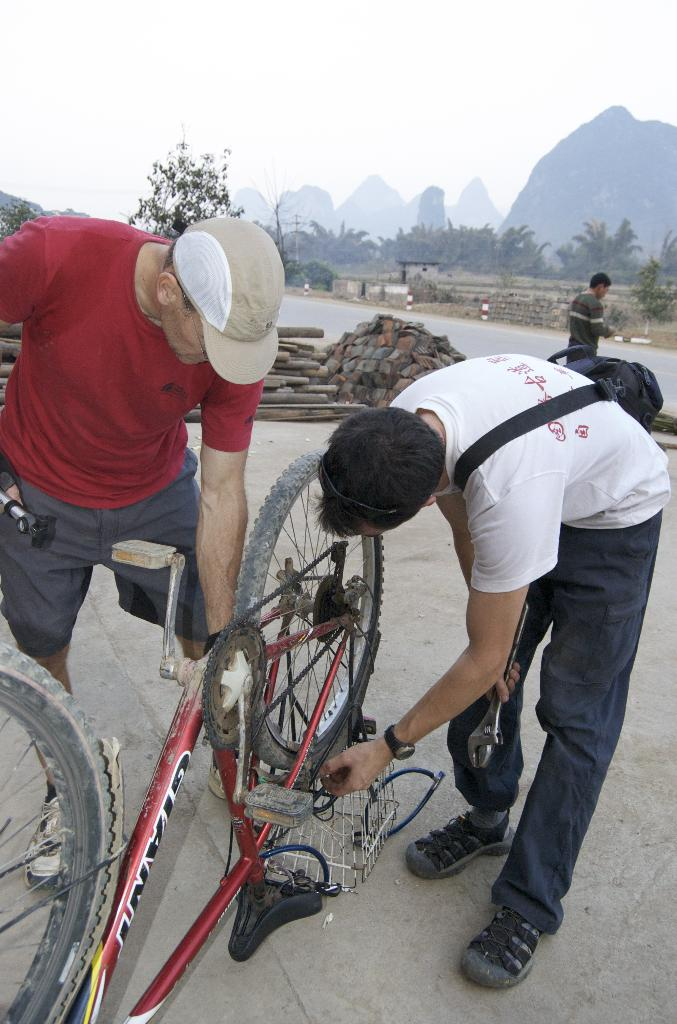Bike_away: (10, 425, 411, 1024)
